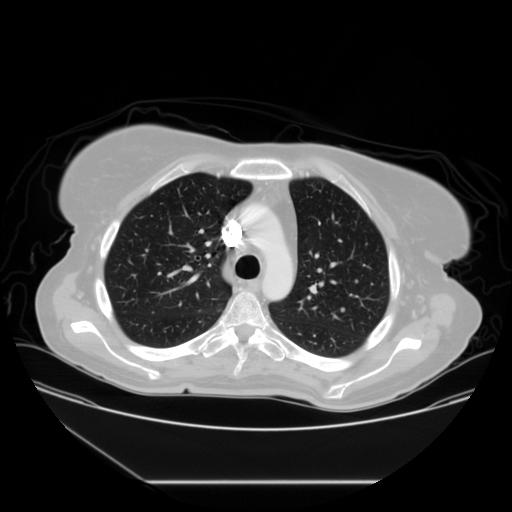nodule: (338, 305, 348, 315)
